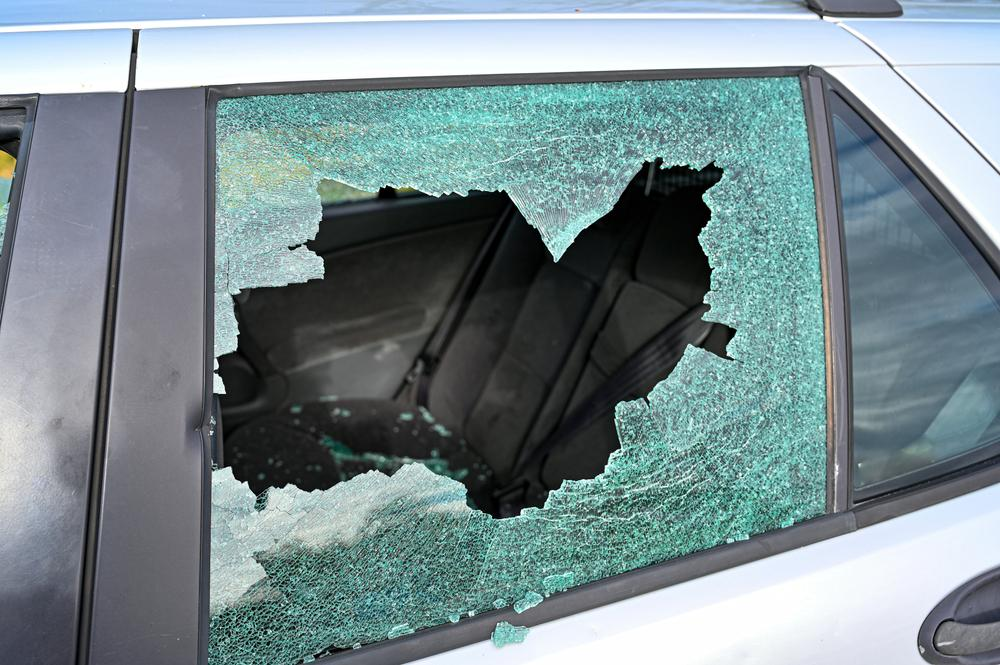glass shatter: (206, 75, 828, 665)
